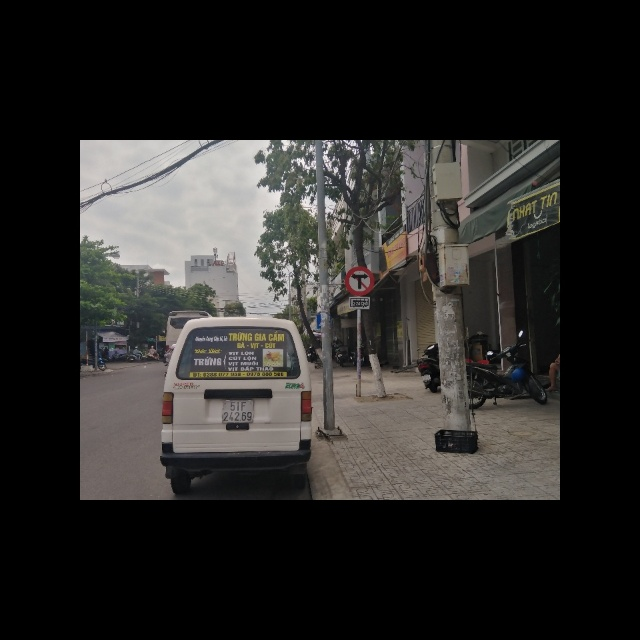Cấm rẽ trái và rẽ phải: (344, 266, 373, 295)
